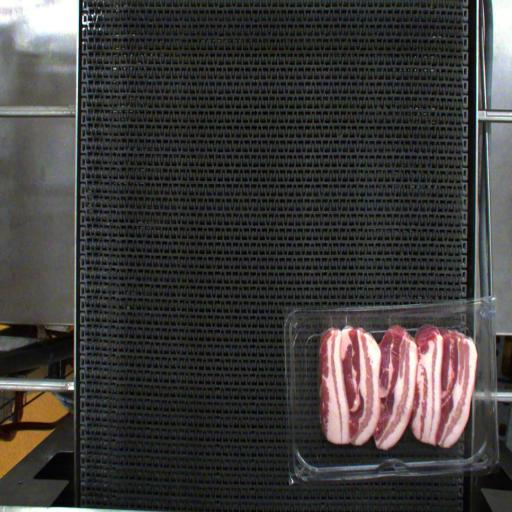packaging-error: (324, 314, 340, 329), (340, 314, 352, 327)
